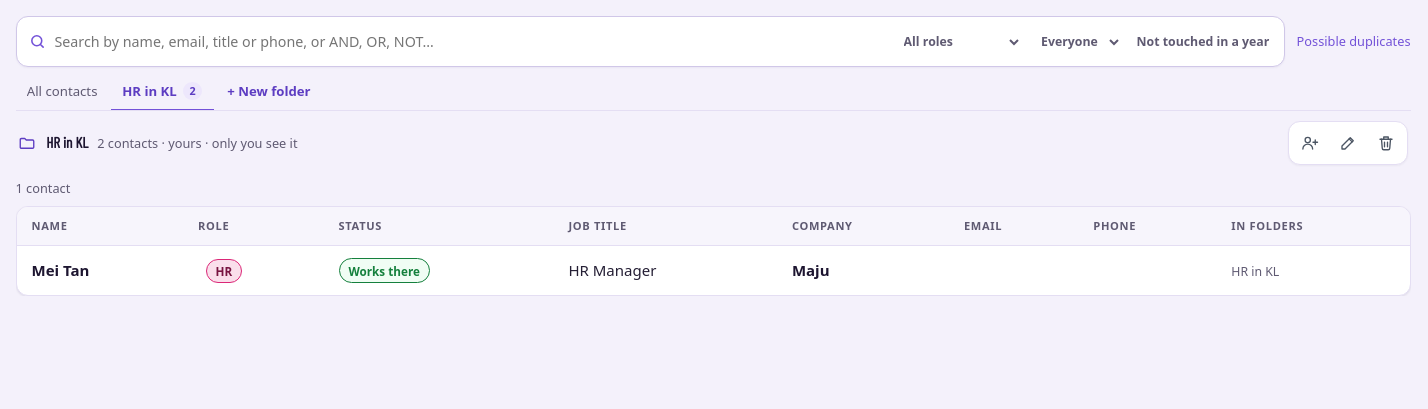
Scenario: folders on a list › unchooses rows unticked from the open folder in Add to folder
Step 1. Click the text "HR Manager" → click(612, 270), box [553,246,777,295]
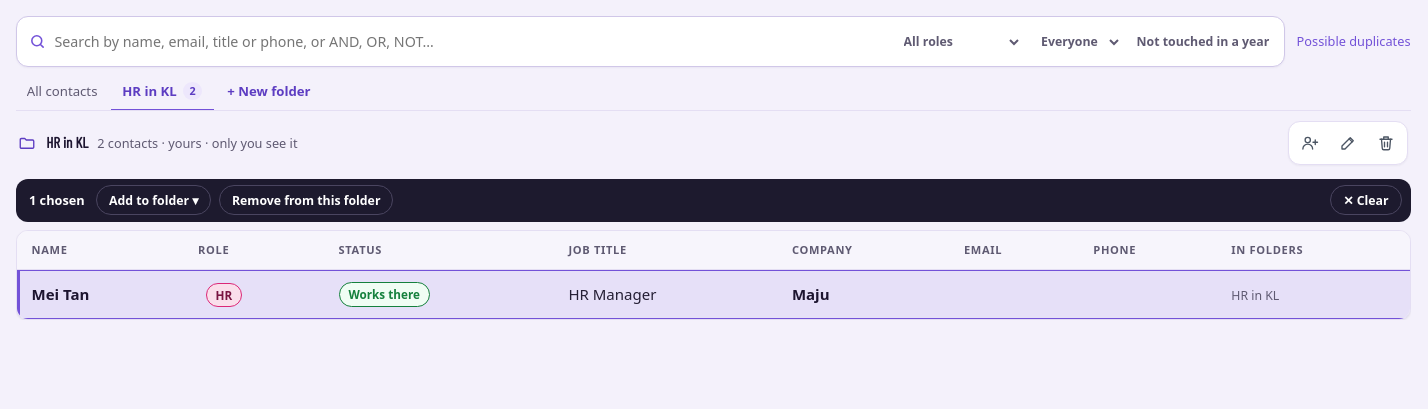
Step 2. Click the button "Add to folder ▾" → click(154, 200), box [96,186,211,216]
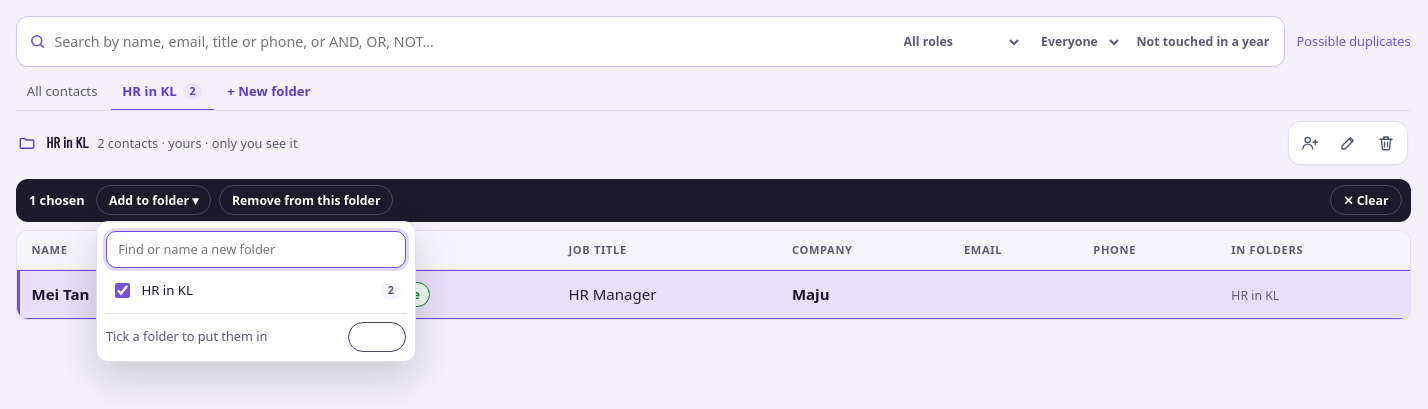
Result: the checkbox labelled "HR in KL 2" is checked
Step 3. Click the checkbox labelled "HR in KL 2" → click(123, 291), box [115,283,130,298]
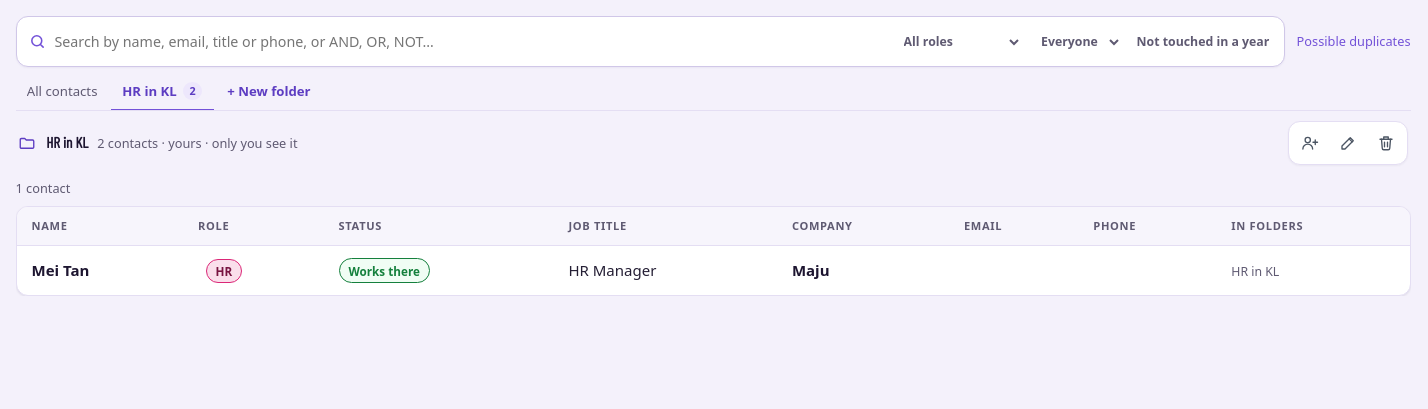
Result: the text "1 chosen" is gone
